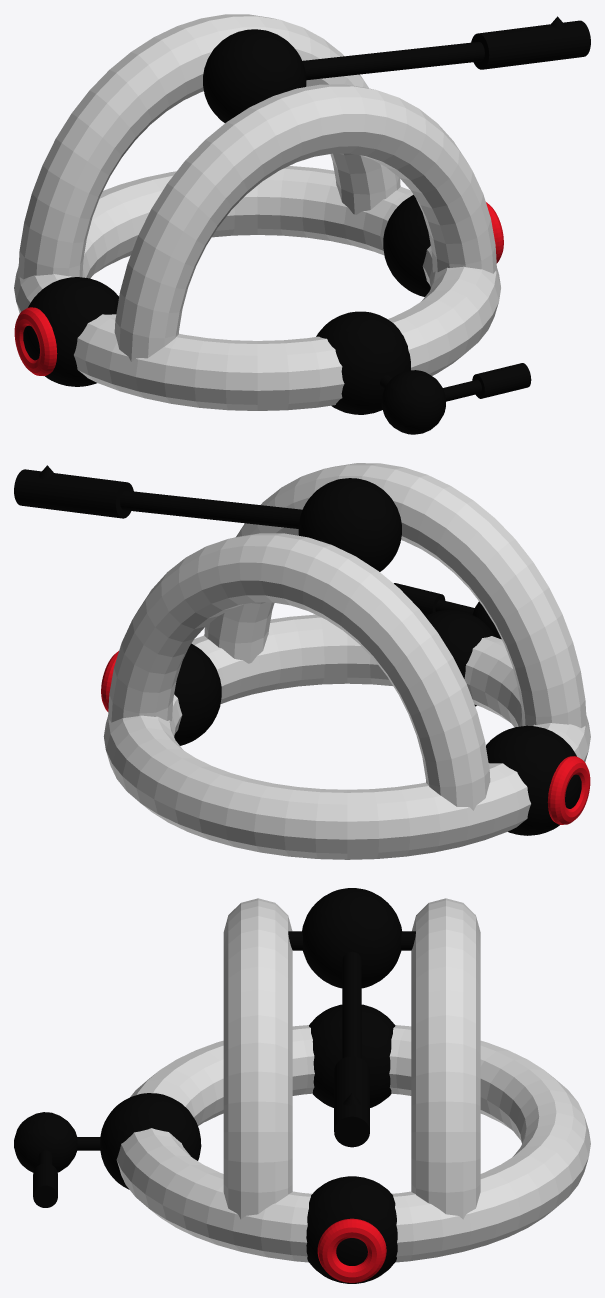
File: sniper.fbx
3 views of the same model, one above another, from view 1: azimuth 30°, elevation 25°; view 2: azimuth 150°, elevation 25°; view 3: azimuth 270°, elevation 25° (orthographic).
Parts seen in each view (by area): view 1: Torus, Mball; view 2: Torus, Mball; view 3: Torus, Mball.
Part boxes in pixels (bbox=[...]): Torus: bbox=[14, 14, 590, 410]; Mball: bbox=[23, 29, 445, 434]; Torus: bbox=[14, 463, 590, 859]; Mball: bbox=[174, 478, 581, 835]; Torus: bbox=[33, 898, 590, 1282]; Mball: bbox=[14, 888, 401, 1283].
Bounding box in the file's own units: 455 × 238 × 418.
